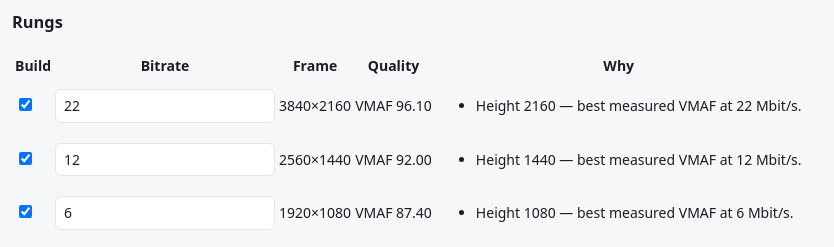
Test: editing a rung › keeps the freshest edit when two answers arrive out of order (T523)
The image size is (834, 247).
Expected: the row with test id "rung-1" shows "92.00", [355,150,432,168]
Replace the text in the number field named "Bitrate 2" with "9" at point(165, 159), box [55,142,275,176]
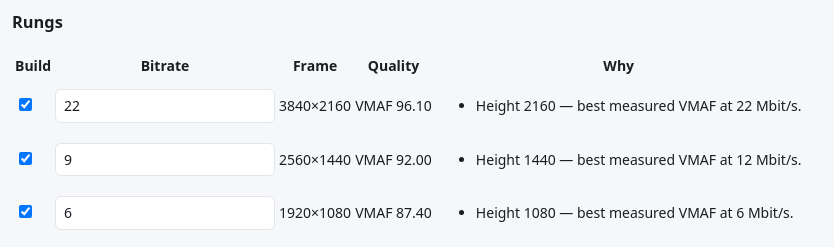
Replace the text in the number field named "Bitrate 2" with "5" at point(165, 159), box [55,142,275,176]
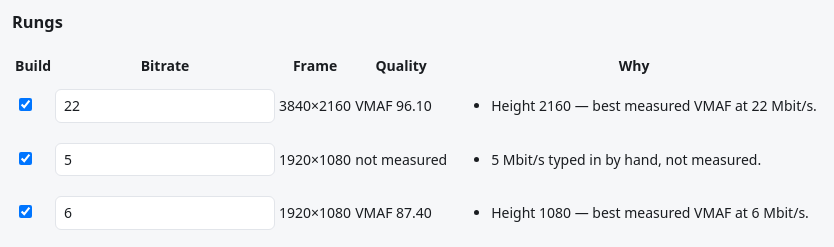
Expected: the row with test id "rung-1" shows "1920×1080", [14,134,818,185]
